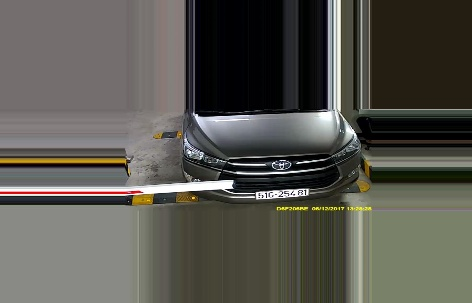plate: (253, 186, 314, 200)
